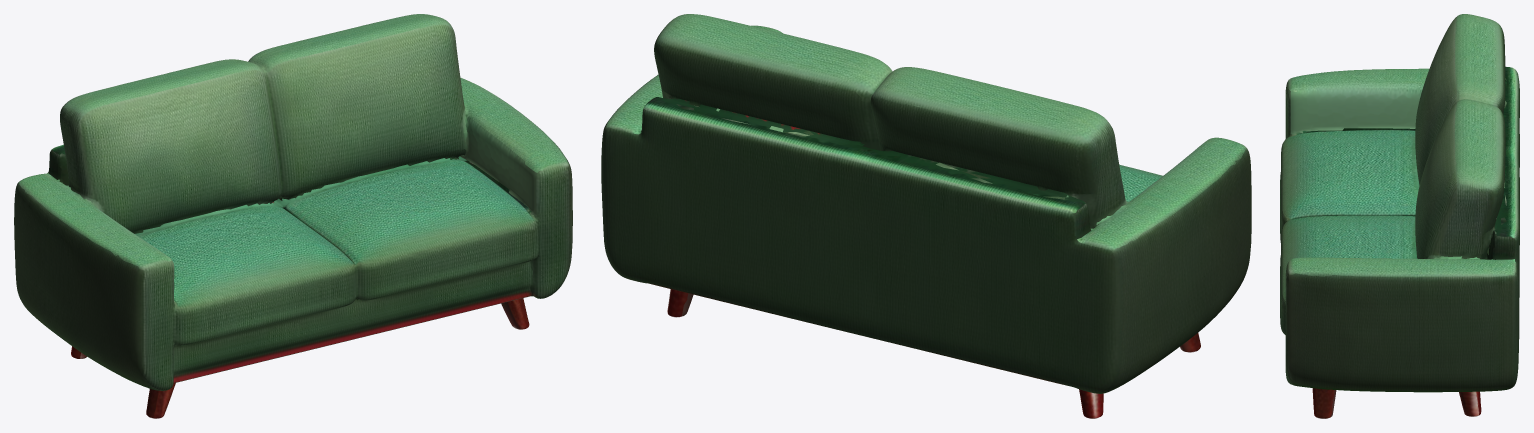
Rendered from couch__couch#1.glb.
3 views of the same model, side by side, from view 1: azimuth 30°, elevation 25°; view 2: azimuth 150°, elevation 25°; view 3: azimuth 270°, elevation 25° (orthographic). The views are drawn at different scales.
Visible parts, largest first — view 1: tmp4hcb1zfe.ply; view 2: tmp4hcb1zfe.ply; view 3: tmp4hcb1zfe.ply.
Part boxes in pixels (x1,y1,x2,y2): tmp4hcb1zfe.ply: (14,14,572,418); tmp4hcb1zfe.ply: (601,14,1251,418); tmp4hcb1zfe.ply: (1280,14,1519,418).
Bounding box in the file's own units: 1.99 × 1.05 × 0.9508.
Materials: 1 (1 with a texture image).
